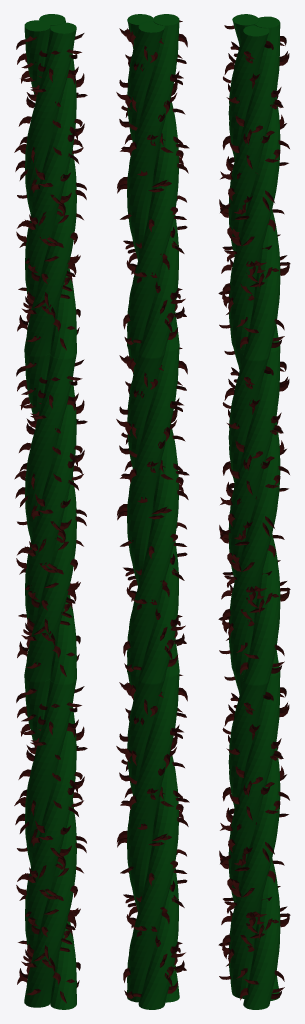
The model's file is loza-2-2-1.fbx.
The picture shows the model from 3 angles, left to right: view 1: azimuth 30°, elevation 25°; view 2: azimuth 210°, elevation 25°; view 3: azimuth 330°, elevation 25°; orthographic projection.
Visible parts, largest first — view 1: ship.002; view 2: ship.002; view 3: ship.002.
Part boxes in pixels (bbox=[...]): ship.002: bbox=[14, 14, 87, 1009]; ship.002: bbox=[116, 14, 189, 1009]; ship.002: bbox=[218, 14, 290, 1009].
Size of the model in its own units: 24.87 by 377 by 25.36.
